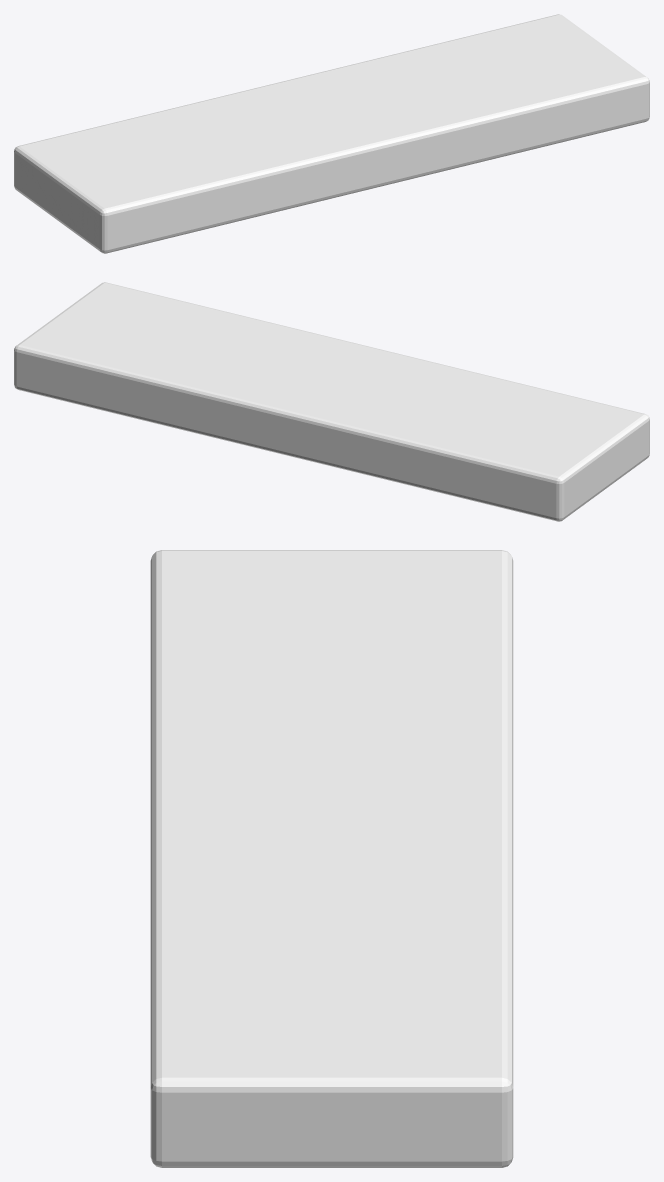
File: Shelf_16.fbx
3 views of the same model, one above another, from view 1: azimuth 30°, elevation 25°; view 2: azimuth 150°, elevation 25°; view 3: azimuth 270°, elevation 25° (orthographic). The views are drawn at different scales.
Visible parts, largest first — view 1: Shelf_16; view 2: Shelf_16; view 3: Shelf_16.
Part boxes in pixels (x1,y1,x2,y2): Shelf_16: (14,14,649,253); Shelf_16: (14,282,649,521); Shelf_16: (150,550,513,1167).
Size of the model in its own units: 0.8187 by 0.0635 by 0.2341.
